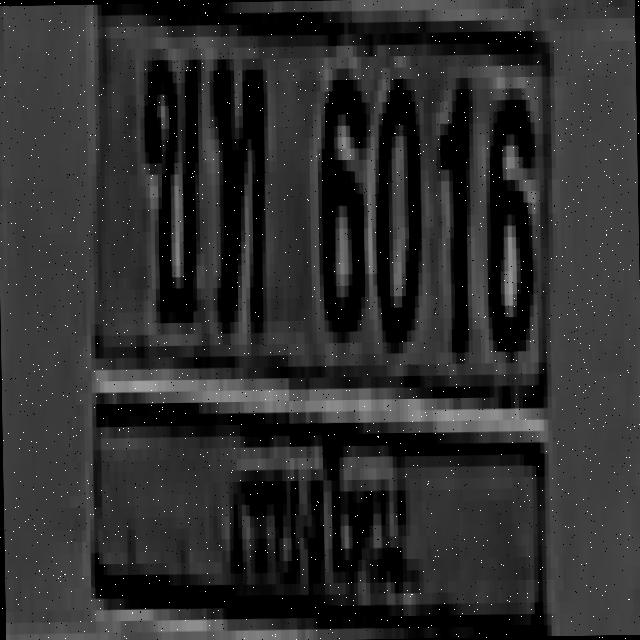0: (374, 58, 425, 390)
1: (431, 64, 484, 394)
11KhorKhai: (118, 10, 212, 358)
32ThorThaHan: (206, 39, 286, 353)
6: (304, 47, 376, 380), (483, 78, 542, 374)
ChiangMai: (196, 377, 428, 640)
